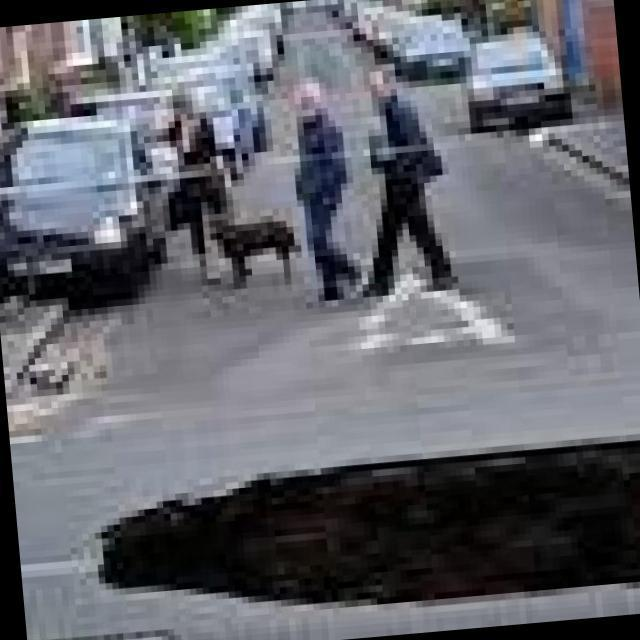-: (94, 440, 640, 611)
